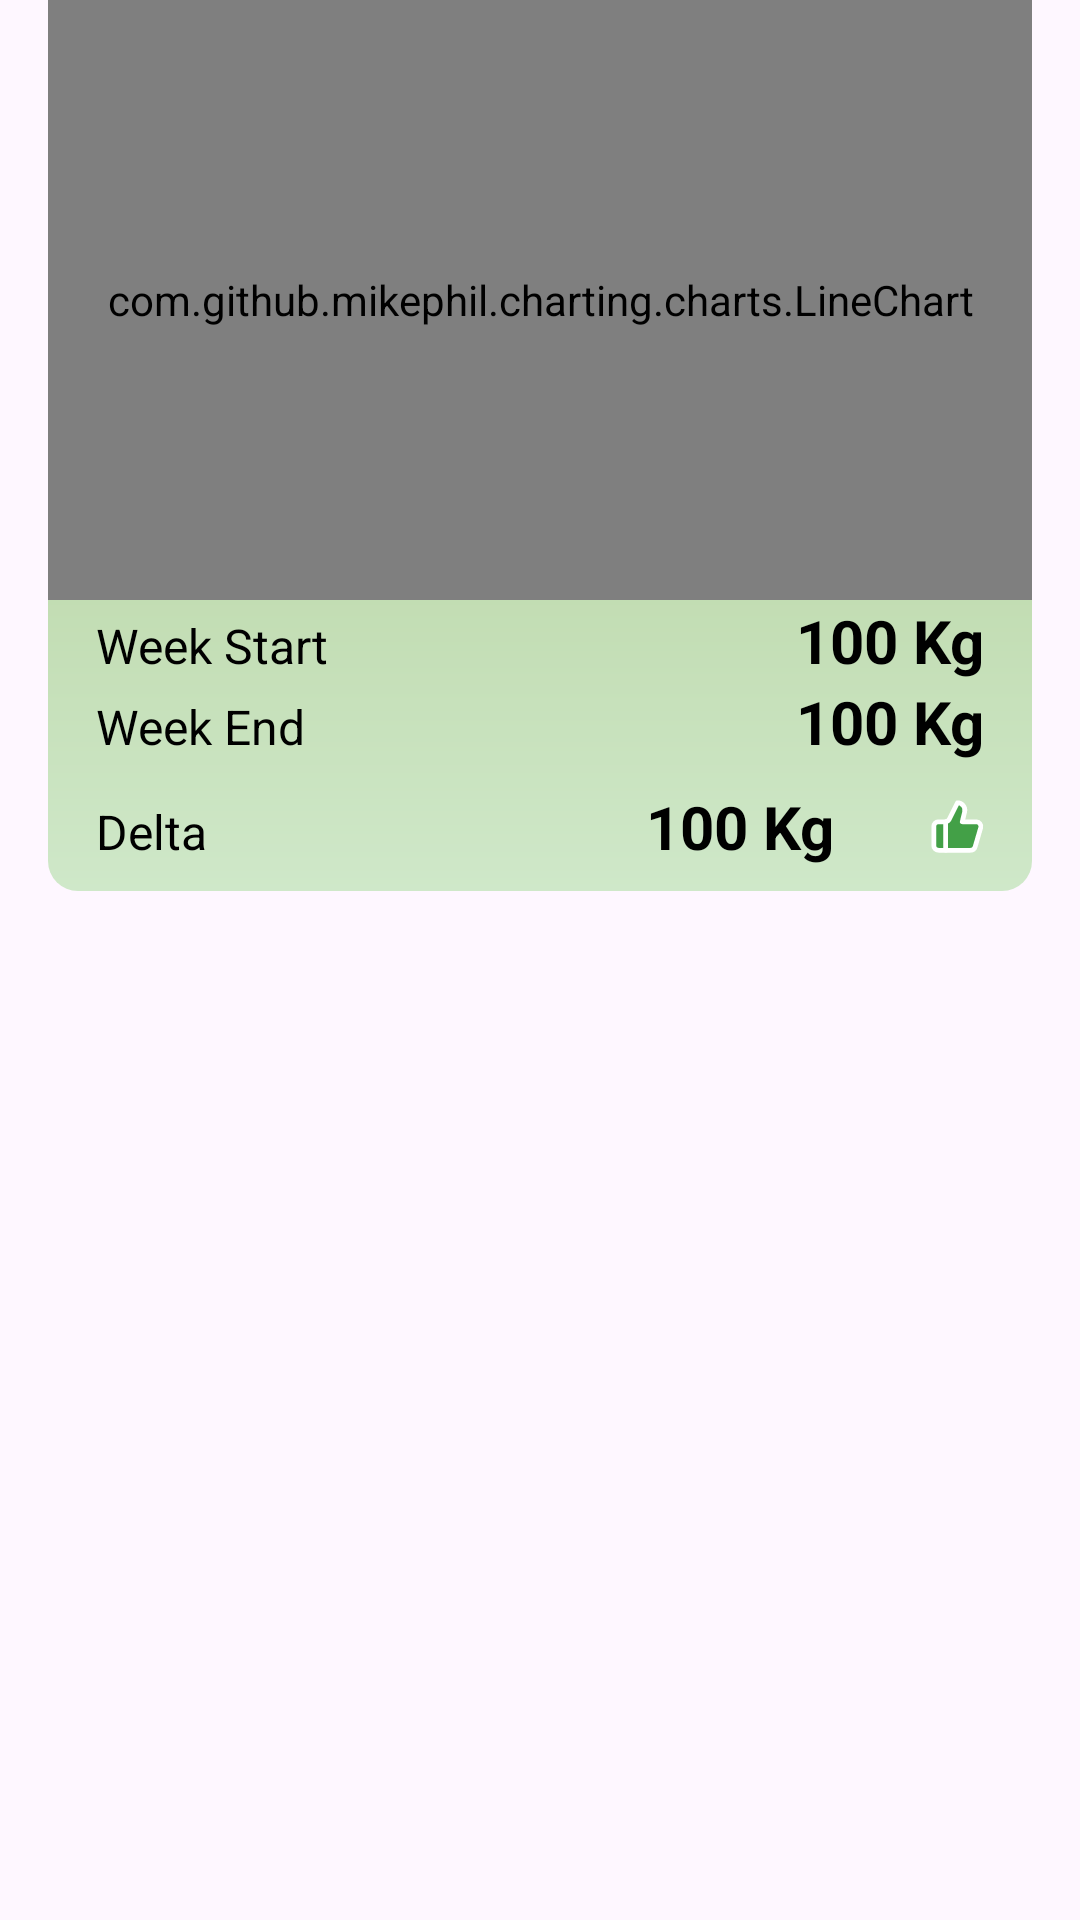

Screen size 1080w x 1920h. Icon name, then its center in pixels as (x,y):
thumbs up: (957,826)
